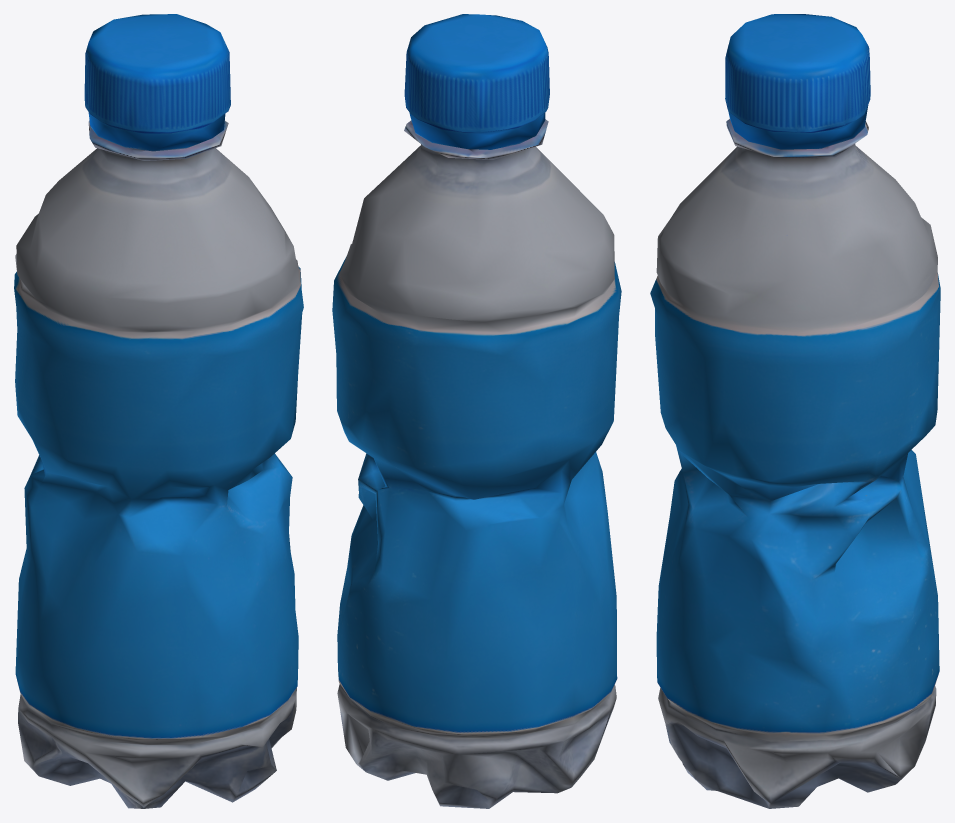
The model's file is agua.glb.
The picture shows the model from 3 angles, left to right: view 1: azimuth 30°, elevation 25°; view 2: azimuth 150°, elevation 25°; view 3: azimuth 270°, elevation 25°; orthographic projection.
Parts seen in each view (by area): view 1: tripo_node_61fe5d6b-973f-4fcc-8d34-0c131513b526; view 2: tripo_node_61fe5d6b-973f-4fcc-8d34-0c131513b526; view 3: tripo_node_61fe5d6b-973f-4fcc-8d34-0c131513b526.
Boxes of the visible parts, x1,y1,x2,y2 form: tripo_node_61fe5d6b-973f-4fcc-8d34-0c131513b526: [14, 14, 303, 808]; tripo_node_61fe5d6b-973f-4fcc-8d34-0c131513b526: [332, 14, 621, 808]; tripo_node_61fe5d6b-973f-4fcc-8d34-0c131513b526: [650, 14, 940, 808].
Bounding box in the file's own units: 0.355 × 0.9816 × 0.3556.
Materials: 1 (1 with a texture image).
